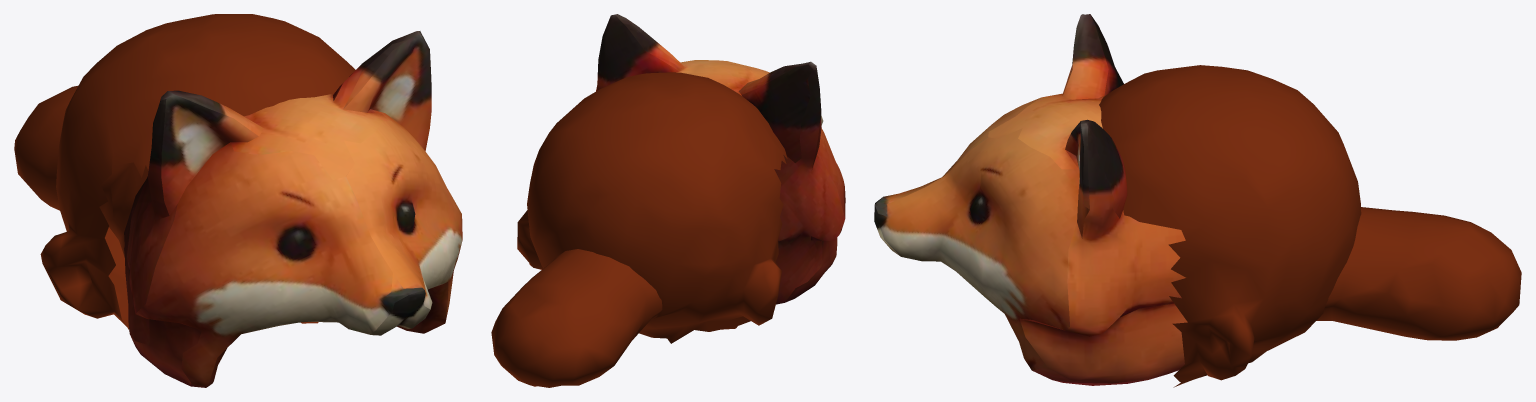
Rendered from red-fox.glb.
The picture shows the model from 3 angles, left to right: view 1: azimuth 30°, elevation 25°; view 2: azimuth 150°, elevation 25°; view 3: azimuth 270°, elevation 25°; orthographic projection. The views are drawn at different scales.
Parts seen in each view (by area): view 1: geometry_0, HoodAnatomicalLining; view 2: HoodAnatomicalLining, geometry_0; view 3: geometry_0, HoodAnatomicalLining.
Boxes of the visible parts, <box> form: geometry_0: <box>14,31,462,387</box>; HoodAnatomicalLining: <box>40,14,355,329</box>; HoodAnatomicalLining: <box>517,72,787,343</box>; geometry_0: <box>491,14,845,387</box>; geometry_0: <box>874,14,1521,385</box>; HoodAnatomicalLining: <box>1099,65,1361,387</box>.
Bounding box in the file's own units: 0.4603 × 0.4324 × 0.8643.
2 materials, 1 textured.
